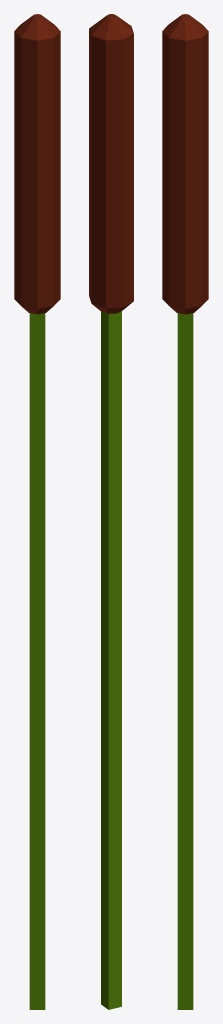
The model's file is straight_cattail.fbx.
The picture shows the model from 3 angles, left to right: view 1: azimuth 90°, elevation 25°; view 2: azimuth 210°, elevation 25°; view 3: azimuth 270°, elevation 25°; orthographic projection.
Visible parts, largest first — view 1: Catstail; view 2: Catstail; view 3: Catstail.
Boxes of the visible parts, bbox=[...] form: Catstail: bbox=[14, 14, 60, 1009]; Catstail: bbox=[89, 14, 133, 1009]; Catstail: bbox=[162, 14, 208, 1009].
Bounding box in the file's own units: 10.69 × 252 × 10.69.
